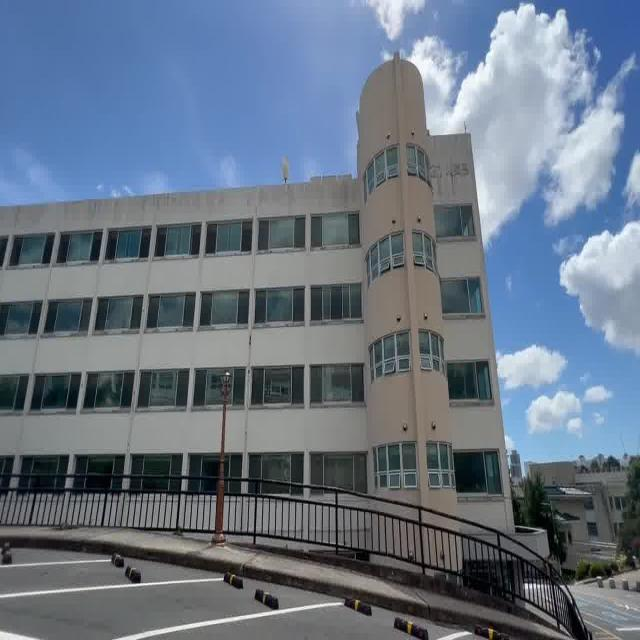building: (20, 82, 507, 532)
